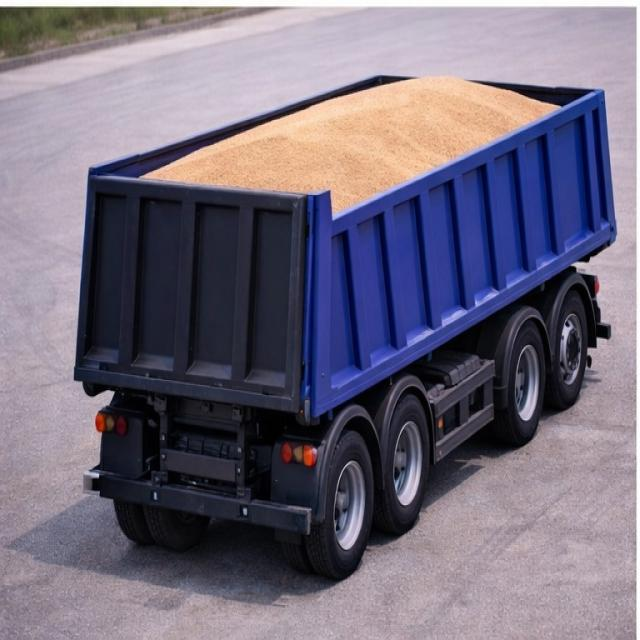trailer: (87, 75, 606, 207)
